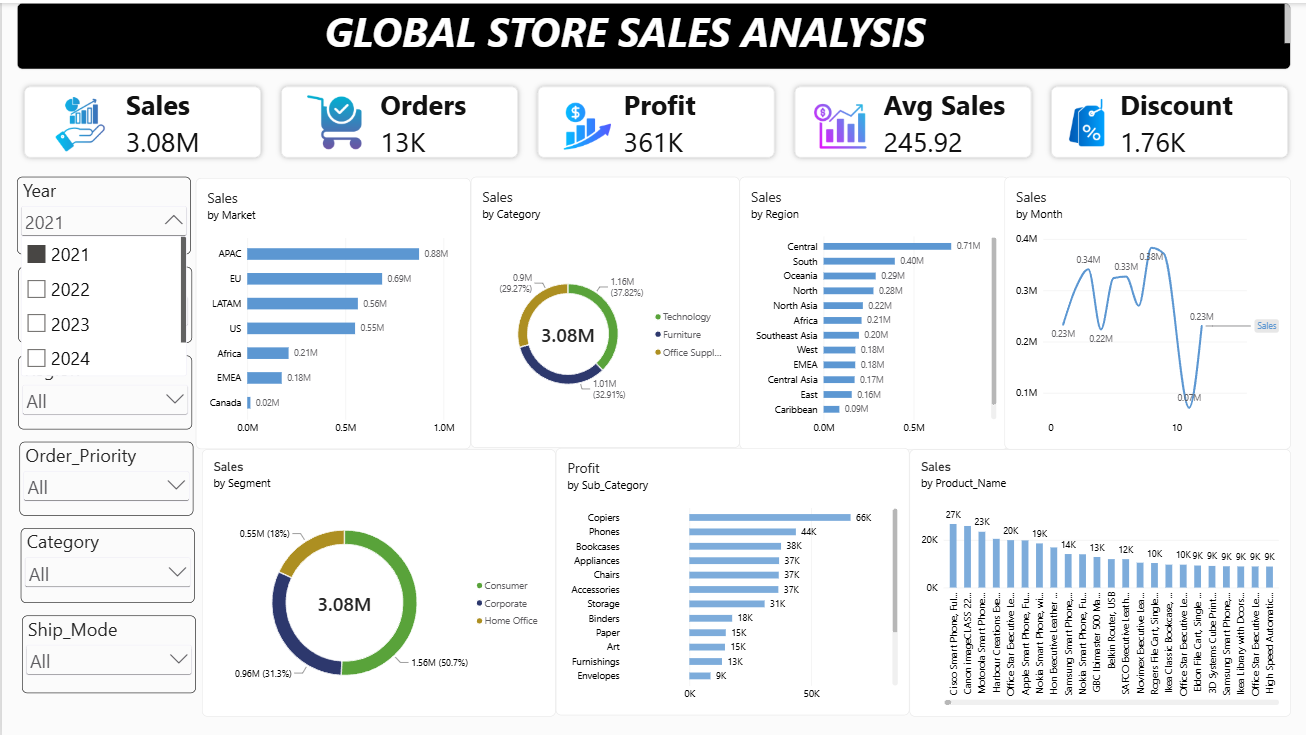

The dashboard page shown, as its layout file describes it:
{"tool":"powerbi","page":{"name":"Page 1","canvas":[1920,1080],"ordinal":4},"visuals":[{"type":"textbox","box":[22.1,0,1875.5,97.5],"z":0},{"type":"slicer","fields":{"Values":["calender.month end date.Variation.Date Hierarchy.Year"]},"box":[22.1,255.8,255.8,114.1],"z":5000},{"type":"slicer","fields":{"Values":["gss_cci.Market"]},"box":[23.9,388.3,255.8,112.3],"z":6000},{"type":"slicer","fields":{"Values":["Orders.Ship_Mode"]},"box":[29.4,901.8,255.8,114.1],"z":7000},{"type":"slicer","fields":{"Values":["gss_cci.Category"]},"box":[27.6,773,255.8,110.4],"z":8000},{"type":"slicer","fields":{"Values":["gss_cci.Order_Priority"]},"box":[25.8,646,255.8,108.6],"z":9000},{"type":"slicer","fields":{"Values":["gss_cci.Region"]},"box":[23.9,519,255.8,108.6],"z":10000},{"type":"cardVisual","fields":{"Data":["MEASURE#.TOTAL SALES","MEASURE#.TOTAL ORDERS","MEASURE#.TOTAL PROFIT","MEASURE#.AVERAGE SALES","MEASURE#.TOTAL DISCOUNT"]},"box":[22.1,112.3,1886.5,127],"z":11000},{"type":"clusteredBarChart","fields":{"Category":["gss_cci.Market"],"Y":["MEASURE#.TOTAL SALES"]},"box":[285.7,257.5,404.9,399.4],"z":21001},{"type":"donutChart","fields":{"Category":["gss_cci.Category"],"Y":["MEASURE#.TOTAL SALES"]},"box":[690.2,255.8,395.7,399.4],"z":21003},{"type":"clusteredBarChart","fields":{"Category":["gss_cci.Region"],"Y":["MEASURE#.TOTAL SALES"]},"box":[1085.9,255.8,395.7,401.2],"z":21006},{"type":"lineChart","fields":{"Category":["calender.FY MONTH"],"Y":["MEASURE#.TOTAL SALES"]},"box":[1476.1,255.8,421.5,401.2],"z":21007},{"type":"clusteredBarChart","fields":{"Category":["gss_cci.Sub_Category"],"Y":["Sum(gss_cci.Profit)"]},"box":[815.3,655.2,520.9,393.9],"z":21008},{"type":"donutChart","fields":{"Category":["gss_cci.Segment"],"Y":["MEASURE#.TOTAL SALES"]},"box":[294.3,657.9,520.9,393.9],"z":21009},{"type":"clusteredColumnChart","fields":{"Category":["gss_cci.Product_Name"],"Y":["Sum(gss_cci.Sales)"]},"box":[1336.2,657.1,561.4,393.9],"z":21010}]}

Visuals, with their boxes in screenshot pixels (x1, y1, x2, y2), scaled from the page's 1920x1080 canvas onto the 1306x735 screenshot:
textbox: left=15, top=0, right=1291, bottom=66
slicer - calender.month end date.Variation.Date Hierarchy.Year: left=15, top=174, right=189, bottom=252
slicer - gss_cci.Market: left=16, top=264, right=190, bottom=341
slicer - Orders.Ship_Mode: left=20, top=614, right=194, bottom=691
slicer - gss_cci.Category: left=19, top=526, right=193, bottom=601
slicer - gss_cci.Order_Priority: left=18, top=440, right=192, bottom=514
slicer - gss_cci.Region: left=16, top=353, right=190, bottom=427
cardVisual - MEASURE#.TOTAL SALES x MEASURE#.TOTAL ORDERS: left=15, top=76, right=1298, bottom=163
clusteredBarChart - gss_cci.Market x MEASURE#.TOTAL SALES: left=194, top=175, right=470, bottom=447
donutChart - gss_cci.Category x MEASURE#.TOTAL SALES: left=469, top=174, right=739, bottom=446
clusteredBarChart - gss_cci.Region x MEASURE#.TOTAL SALES: left=739, top=174, right=1008, bottom=447
lineChart - calender.FY MONTH x MEASURE#.TOTAL SALES: left=1004, top=174, right=1291, bottom=447
clusteredBarChart - gss_cci.Sub_Category x Sum(gss_cci.Profit): left=555, top=446, right=909, bottom=714
donutChart - gss_cci.Segment x MEASURE#.TOTAL SALES: left=200, top=448, right=555, bottom=716
clusteredColumnChart - gss_cci.Product_Name x Sum(gss_cci.Sales): left=909, top=447, right=1291, bottom=715
